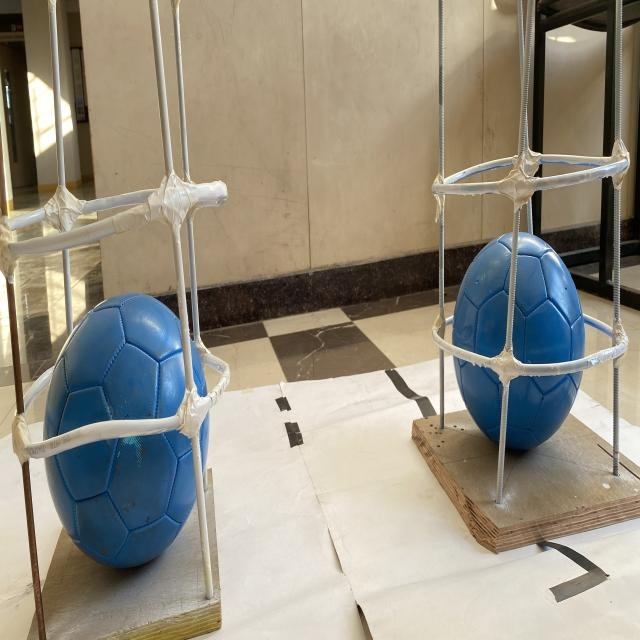blue_ball: (43, 292, 207, 570), (454, 230, 586, 450)
silo: (0, 4, 232, 639), (426, 0, 640, 525)
